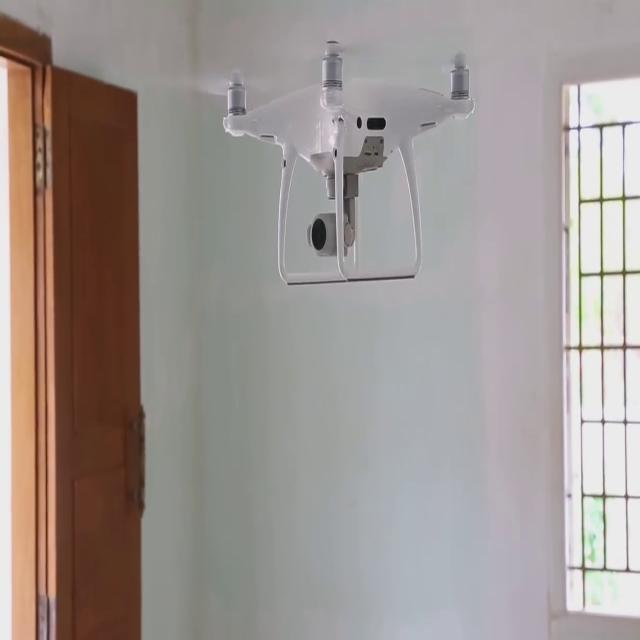drones: (183, 12, 503, 334)
